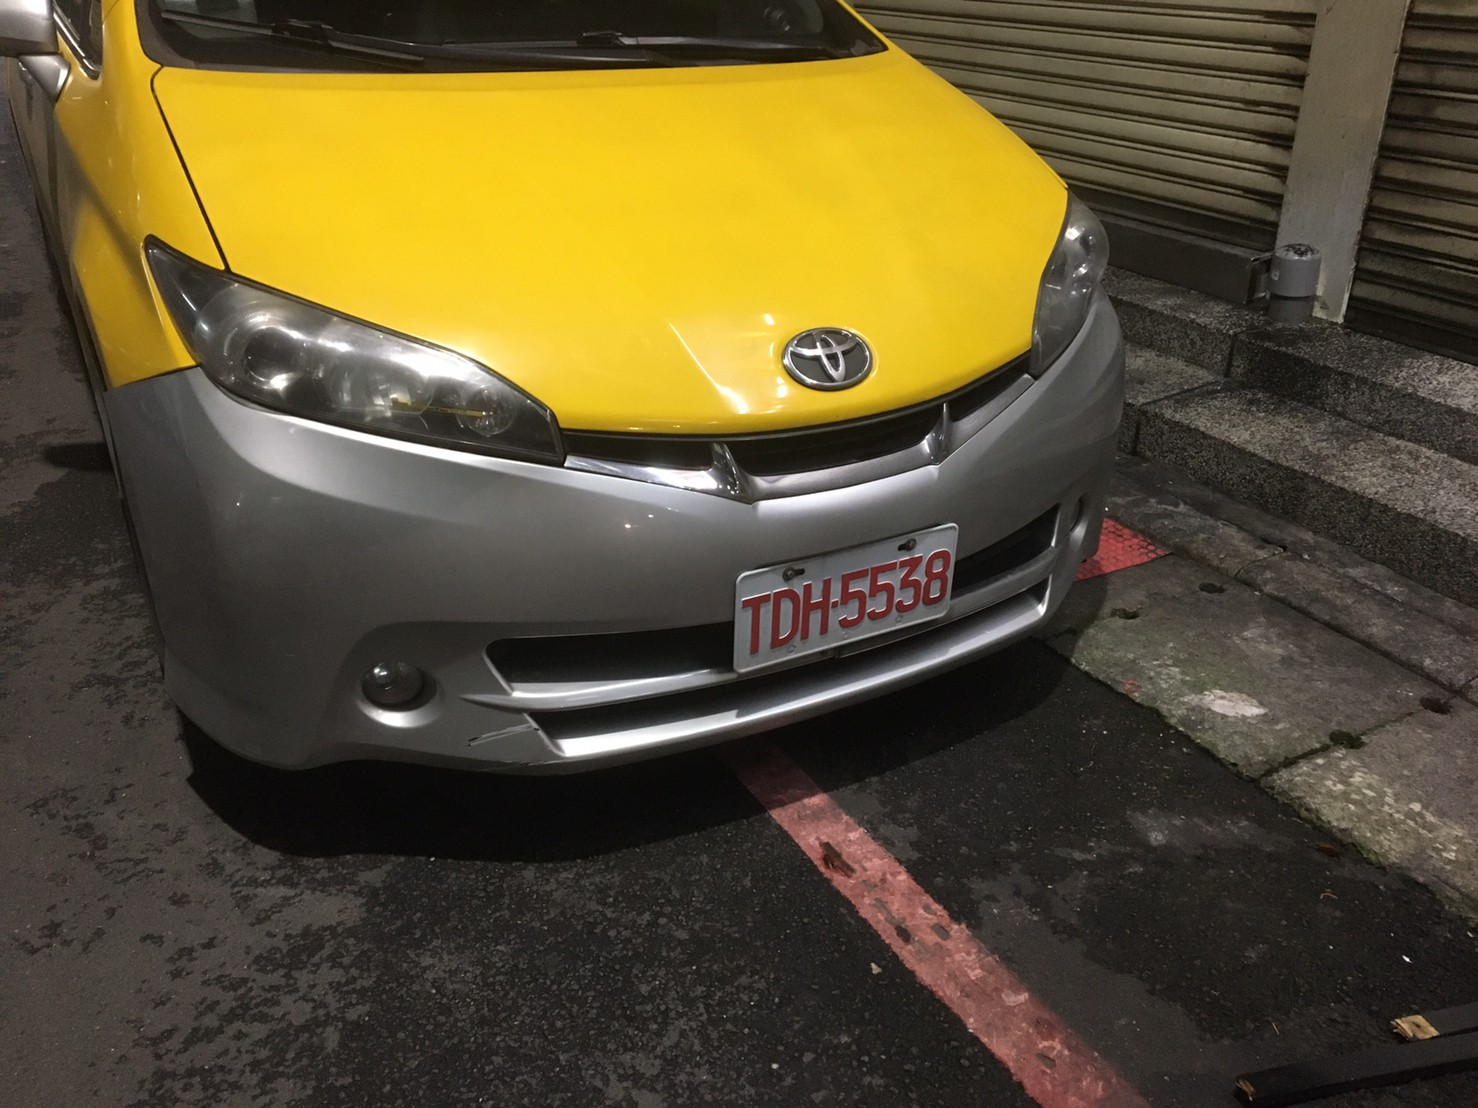LP: (725, 517, 971, 680)
